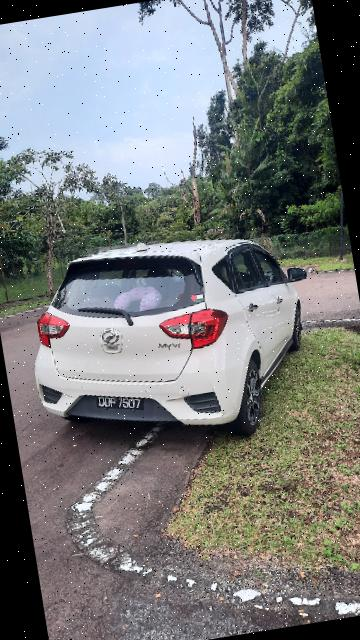License_Plate: (91, 384, 148, 419)
car: (12, 211, 335, 471)
